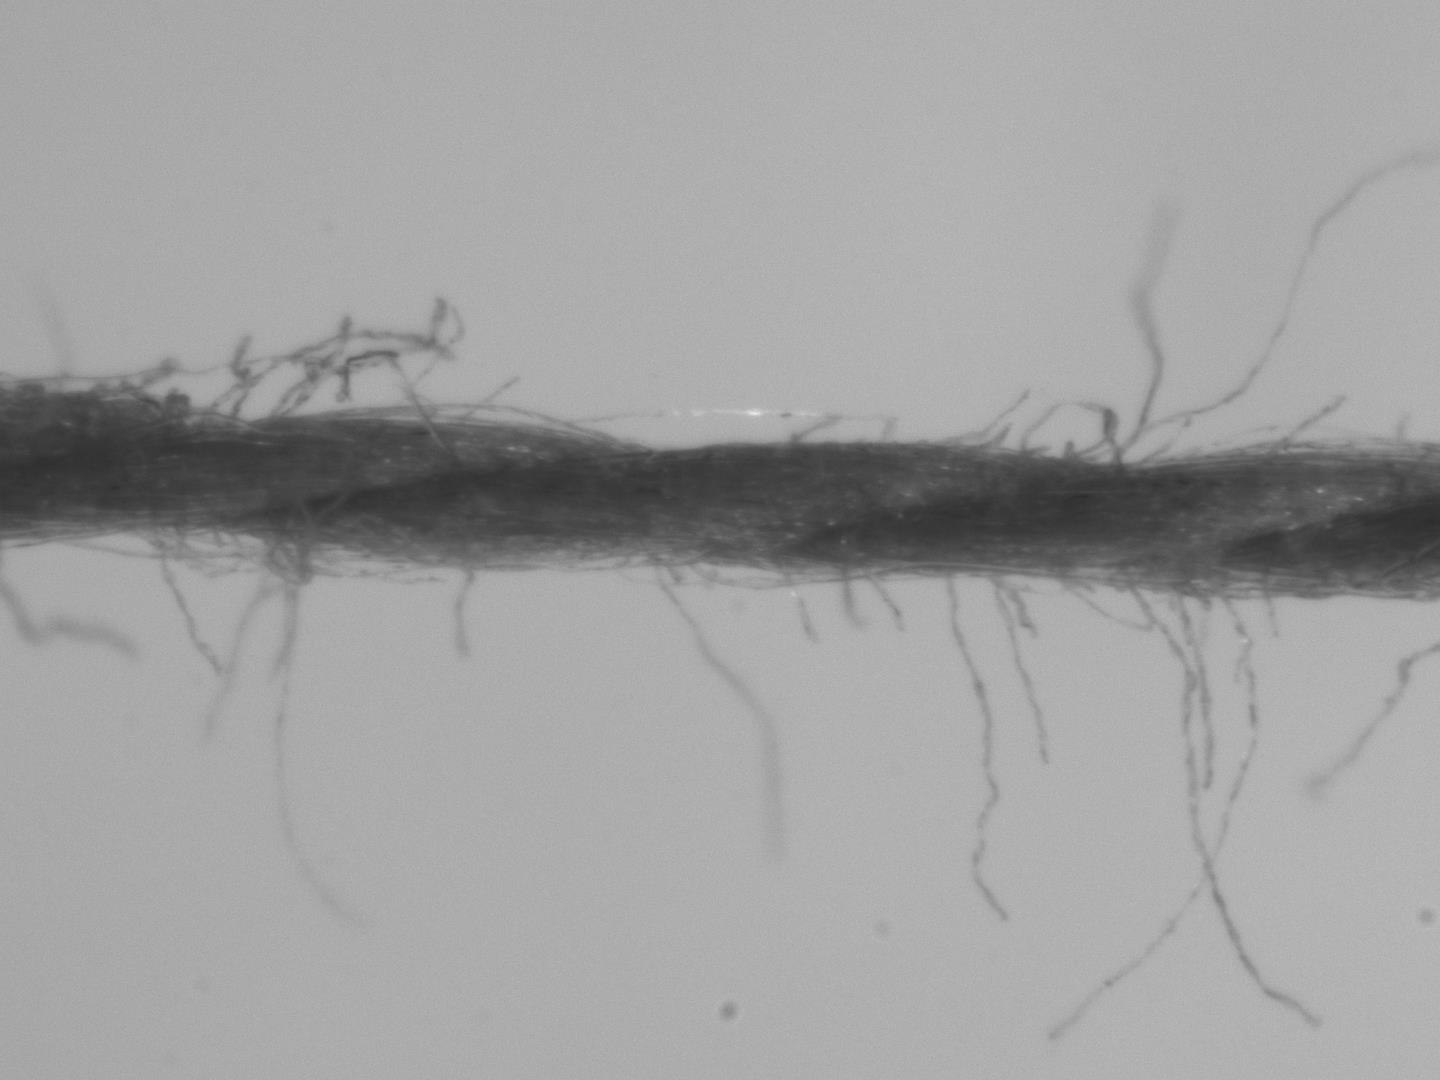loop_fiber: (1018, 396, 1120, 466)
protruding_fiber: (1047, 591, 1267, 1052), (940, 573, 1019, 929), (450, 556, 482, 666)
